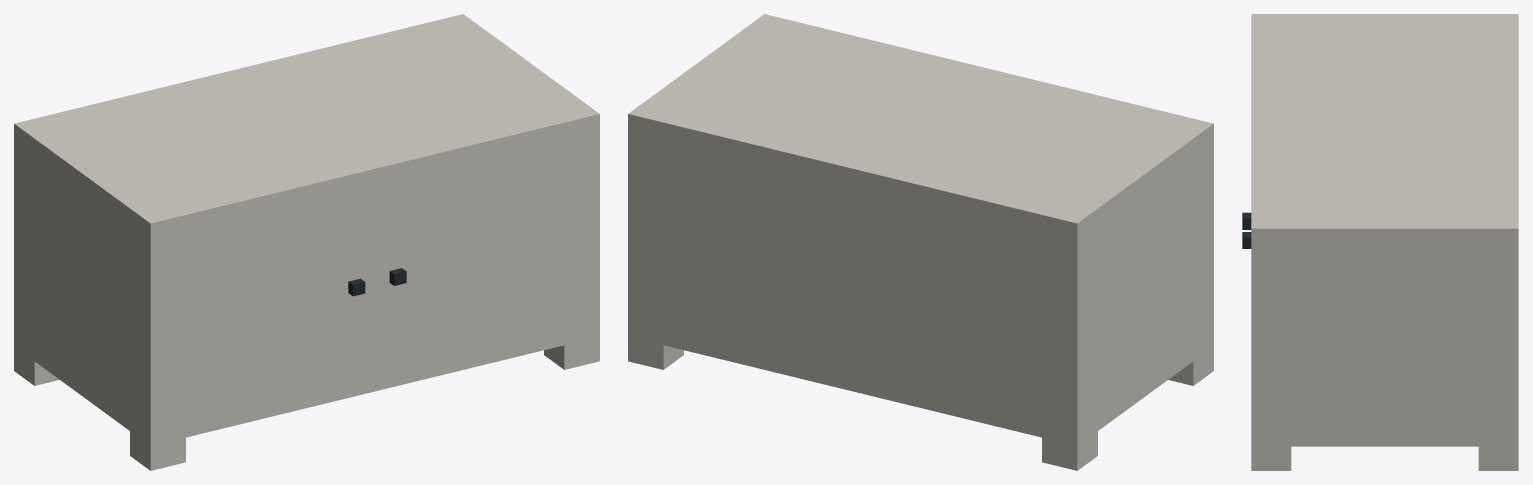
File: white_drawer.fbx
The picture shows the model from 3 angles, left to right: view 1: azimuth 30°, elevation 25°; view 2: azimuth 150°, elevation 25°; view 3: azimuth 270°, elevation 25°; orthographic projection. The views are drawn at different scales.
Parts seen in each view (by area): view 1: Cube, Cube.002, Cube.001; view 2: Cube; view 3: Cube.
Part boxes in pixels (bbox=[...]): Cube: bbox=[14, 14, 599, 470]; Cube.002: bbox=[162, 180, 375, 432]; Cube.001: bbox=[375, 128, 587, 380]; Cube: bbox=[628, 14, 1213, 470]; Cube: bbox=[1251, 14, 1518, 470].
Size of the model in its own units: 380 by 200 by 207.
